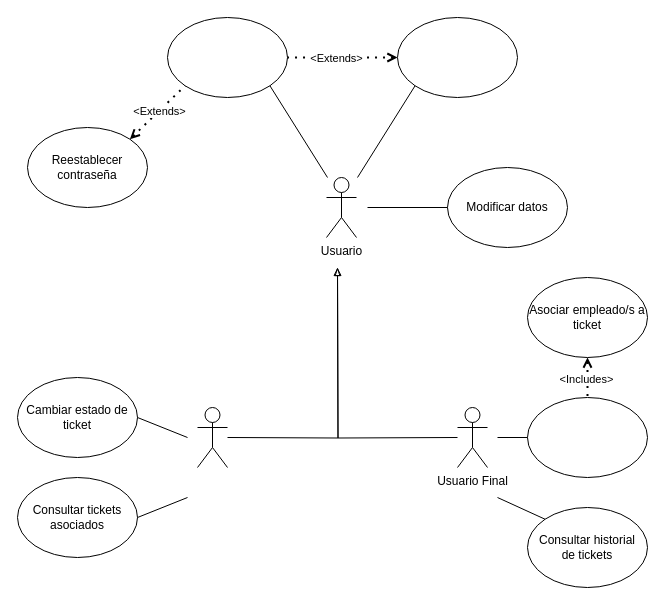
This 665x605 diagram has some shape labels left out. The centre of each missing label's shape, as x and y in pixels:
"Crear nuevo ticket" goes at pixel 587 437.
"Empleado" goes at pixel 212 437.
"Iniciar sesión" goes at pixel 227 57.
"Registrar usuario" goes at pixel 457 57.
